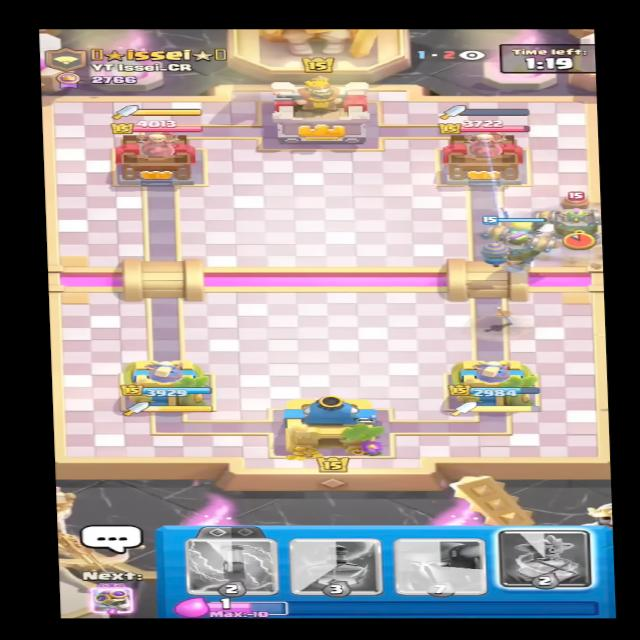Goblinmachine: (522, 189, 607, 246)
